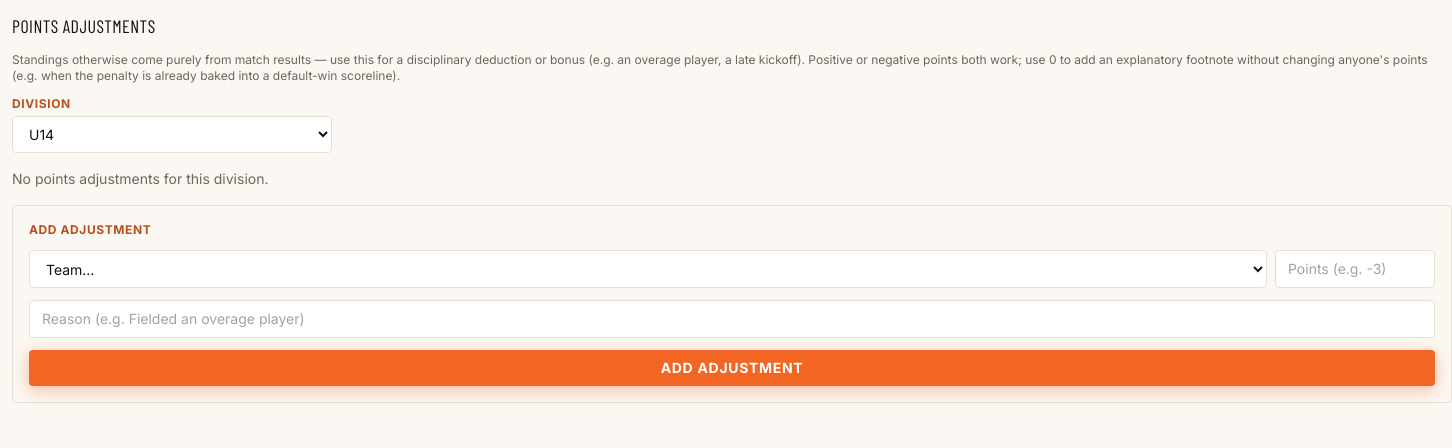
Test: blocks submitting without a reason
The width and height of the screenshot is (1452, 448).
Expected: the text "No points adjustments for this division." is shown, [12,170,268,187]
Select "New Generation FC" in the 2nd dropdown at (648, 269), box [29,250,1267,288]
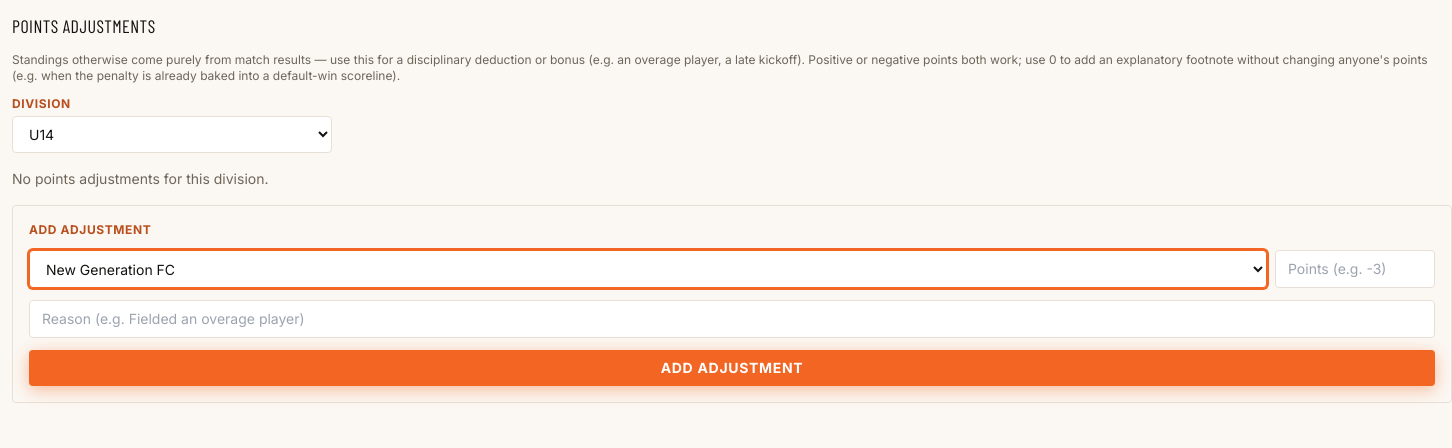
Type "-1" into the number field with placeholder "Points (e.g. -3)" at (1355, 269), box [1275,250,1435,288]
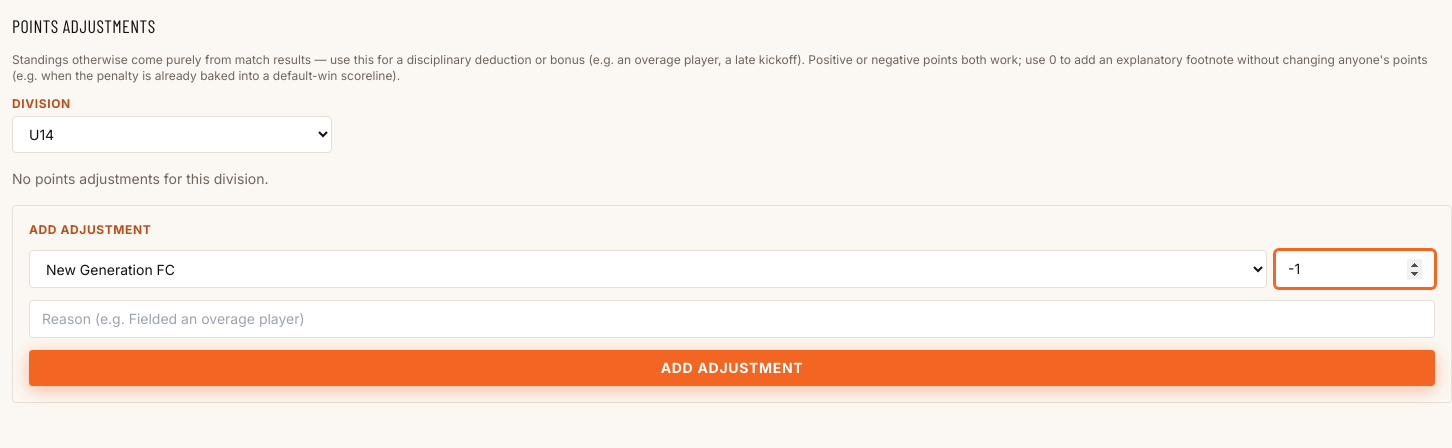
Click the button "Add Adjustment" at (732, 368), box [29,350,1435,386]
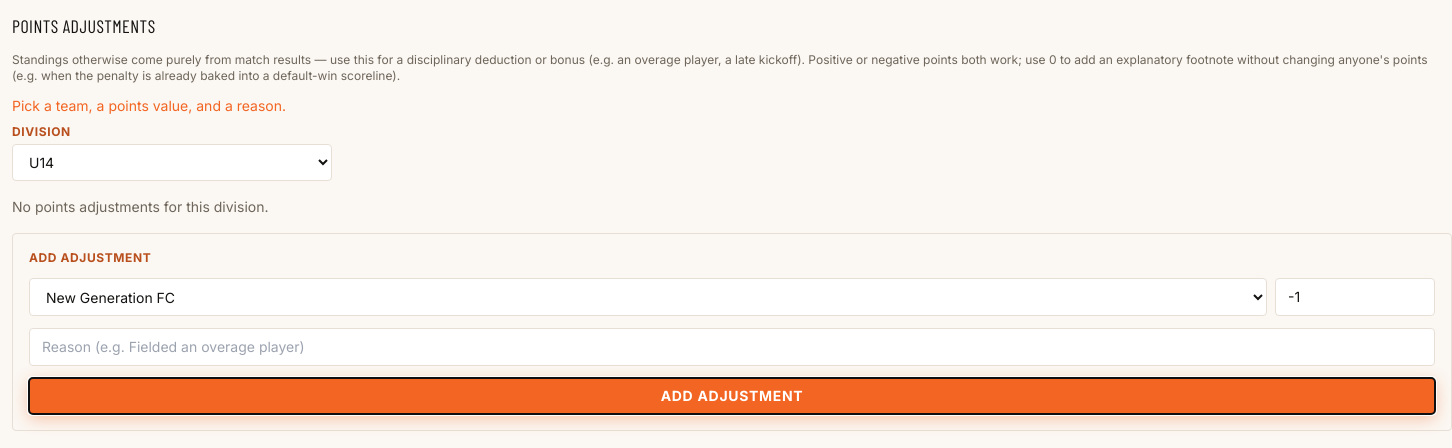
Now the text "Pick a team, a points value, and a reason." is shown, box [12,97,286,114]
